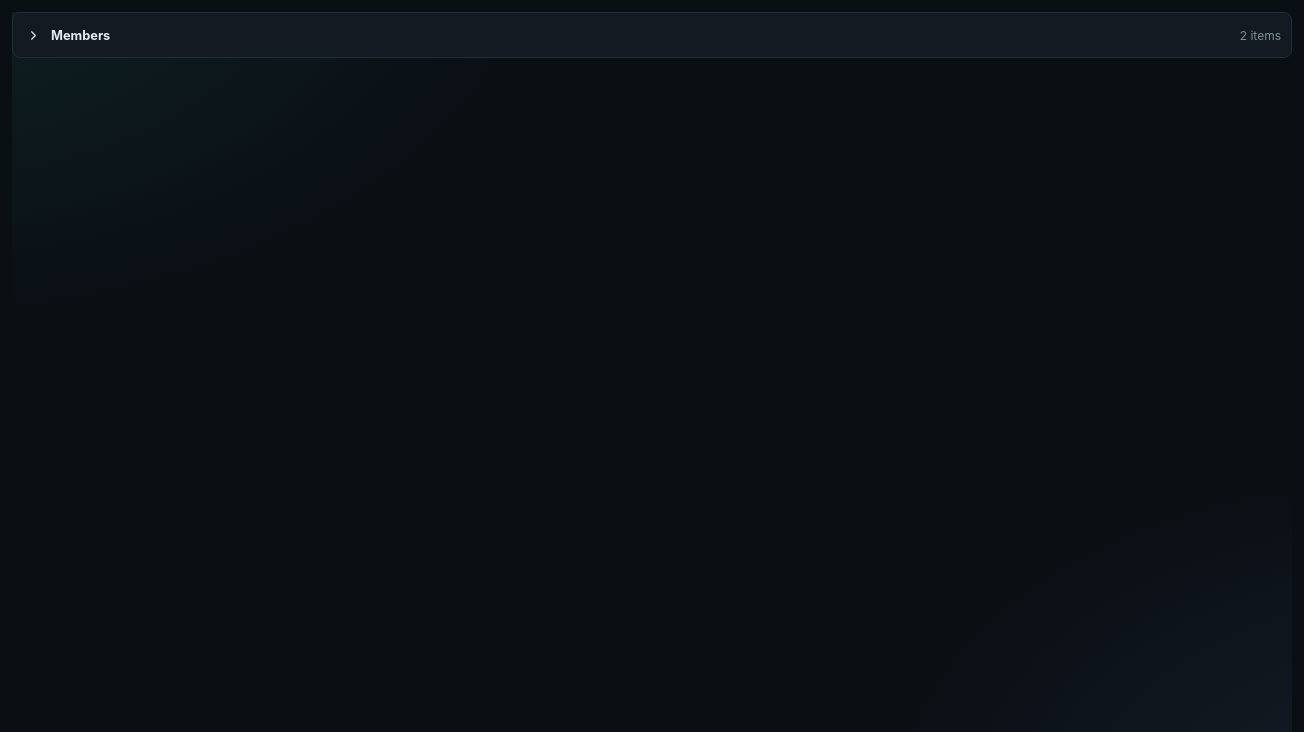
Test: shared UI primitives › Disclosure is a real button bound to its panel and keeps the panel mounted but hidden
Click the button "Members 2 items": click(81, 35) x1=13 y1=13 x2=1291 y2=57
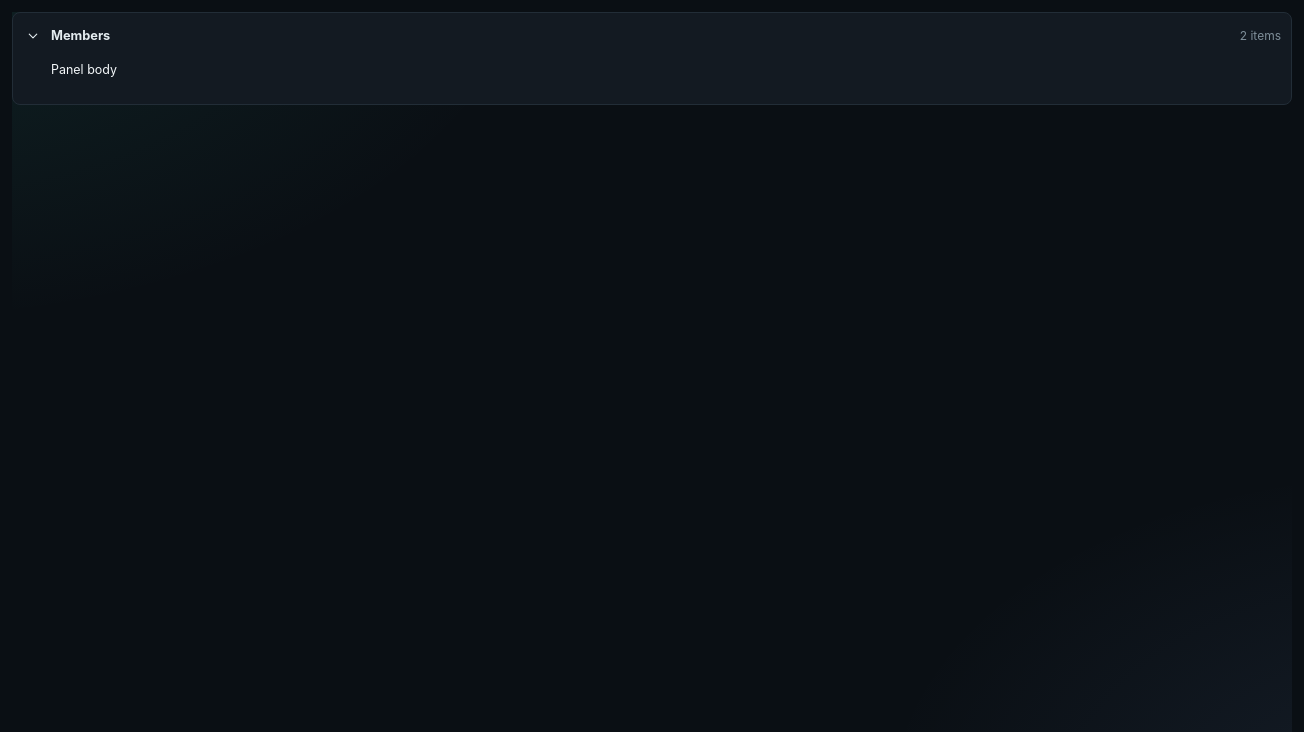
Check: the button "Members 2 items" is expanded, box x1=13 y1=13 x2=1291 y2=57
